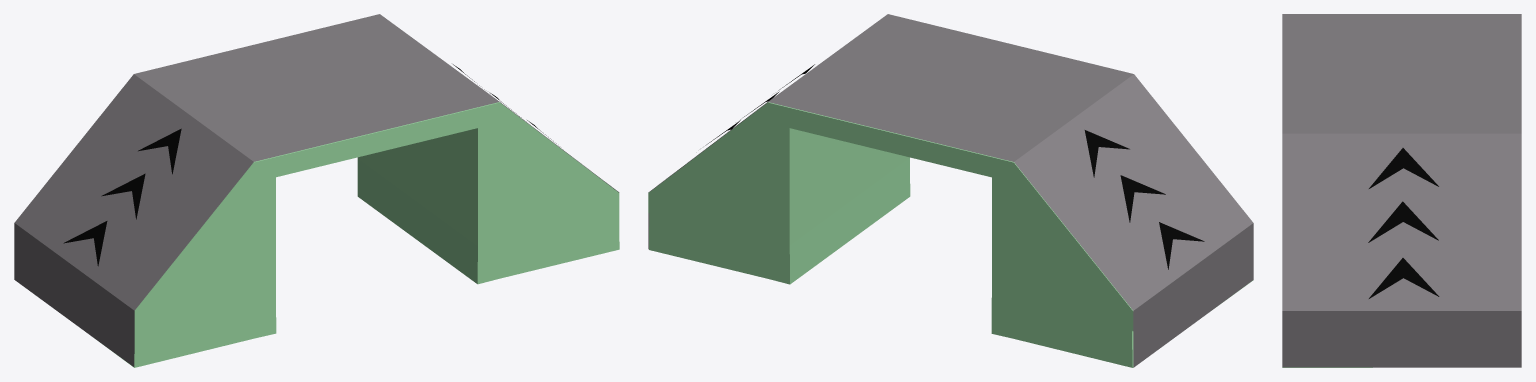
The model's file is rampa.fbx.
3 renders of one model, left to right at view 1: azimuth 30°, elevation 25°; view 2: azimuth 150°, elevation 25°; view 3: azimuth 270°, elevation 25°, orthographic.
Parts seen in each view (by area): view 1: Cube.001, Cube, Plane.005; view 2: Cube.001, Cube, Plane.005; view 3: Cube.001, Plane.005.
Boxes of the visible parts, x1,y1,x2,y2 form: Cube.001: [14, 14, 619, 366]; Cube: [108, 102, 619, 367]; Plane.005: [63, 64, 556, 266]; Cube.001: [648, 14, 1253, 367]; Cube: [648, 102, 1253, 367]; Plane.005: [705, 64, 1204, 269]; Cube.001: [1282, 14, 1521, 367]; Plane.005: [1368, 148, 1439, 298].
Size of the model in its own units: 394 by 138 by 169.
